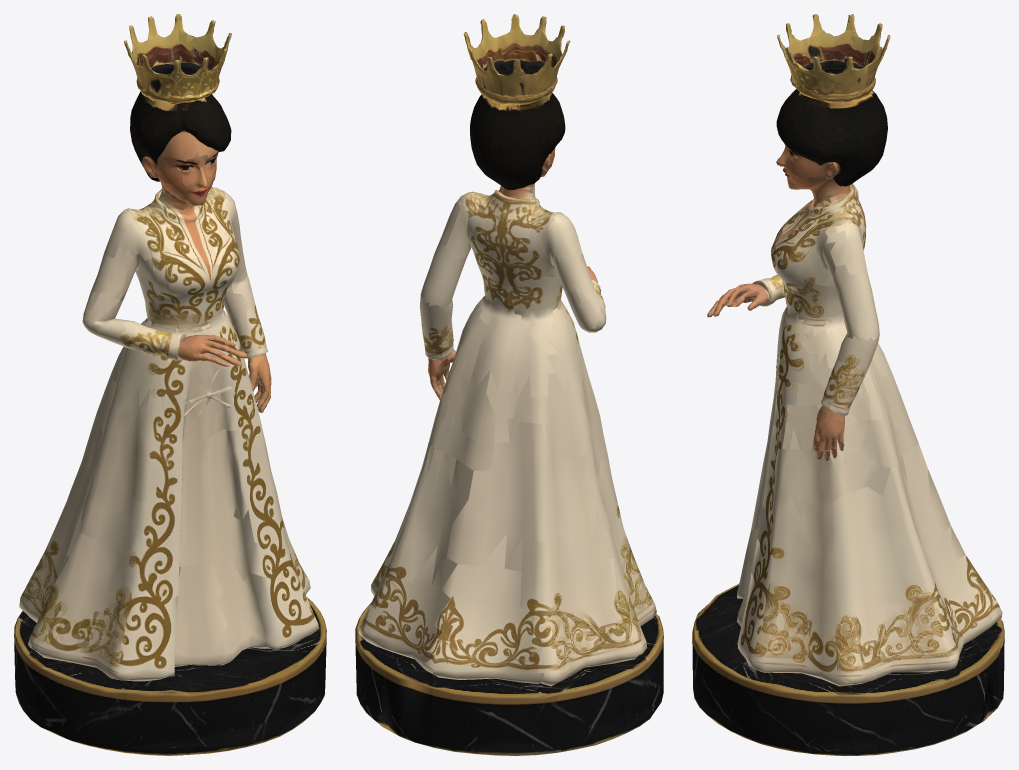
The model's file is right-queen.glb.
3 renders of one model, left to right at view 1: azimuth 30°, elevation 25°; view 2: azimuth 150°, elevation 25°; view 3: azimuth 270°, elevation 25°, orthographic.
Bounding box in the file's own units: 0.4346 × 1 × 0.4316.
Materials: 1 (1 with a texture image).
